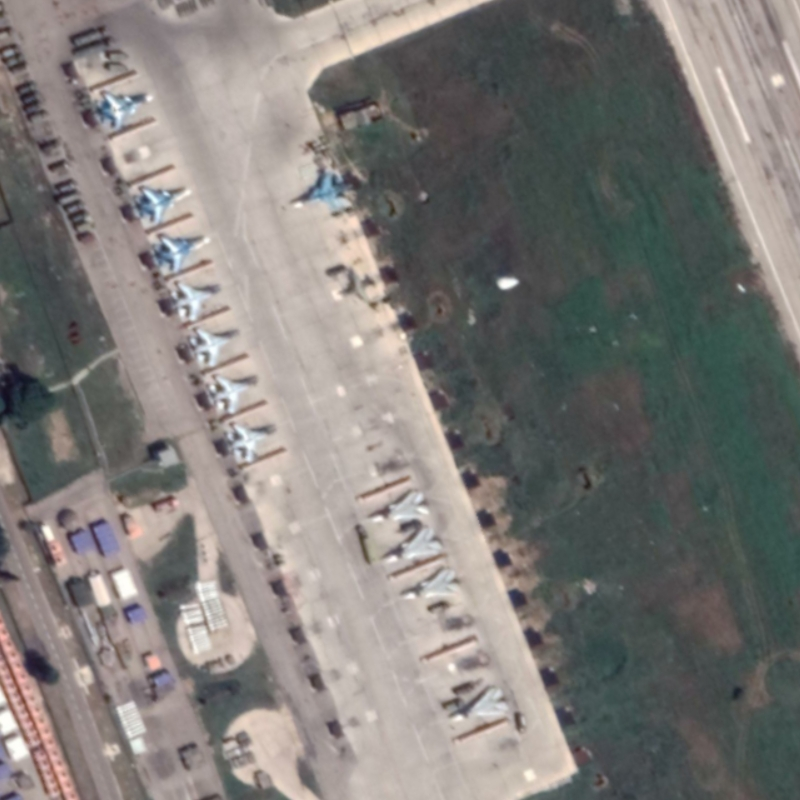A1: (219, 419, 279, 465), (186, 324, 245, 369), (166, 278, 225, 321), (202, 372, 261, 415)
A19: (287, 166, 357, 213), (129, 180, 194, 227), (148, 230, 213, 274), (95, 86, 159, 130)
A20: (378, 523, 447, 565), (443, 684, 512, 725), (363, 487, 434, 522), (396, 566, 463, 601)
